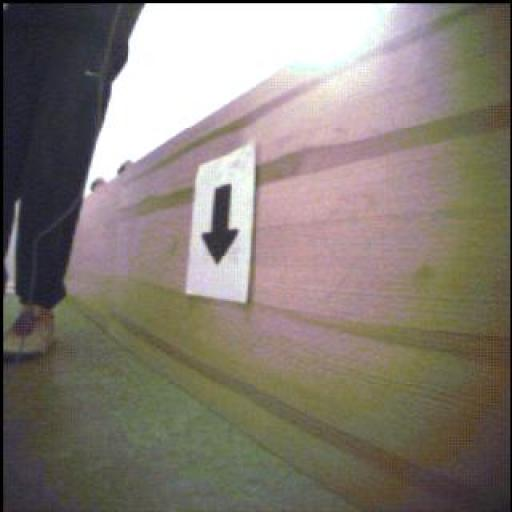arrow: (203, 185, 240, 265)
